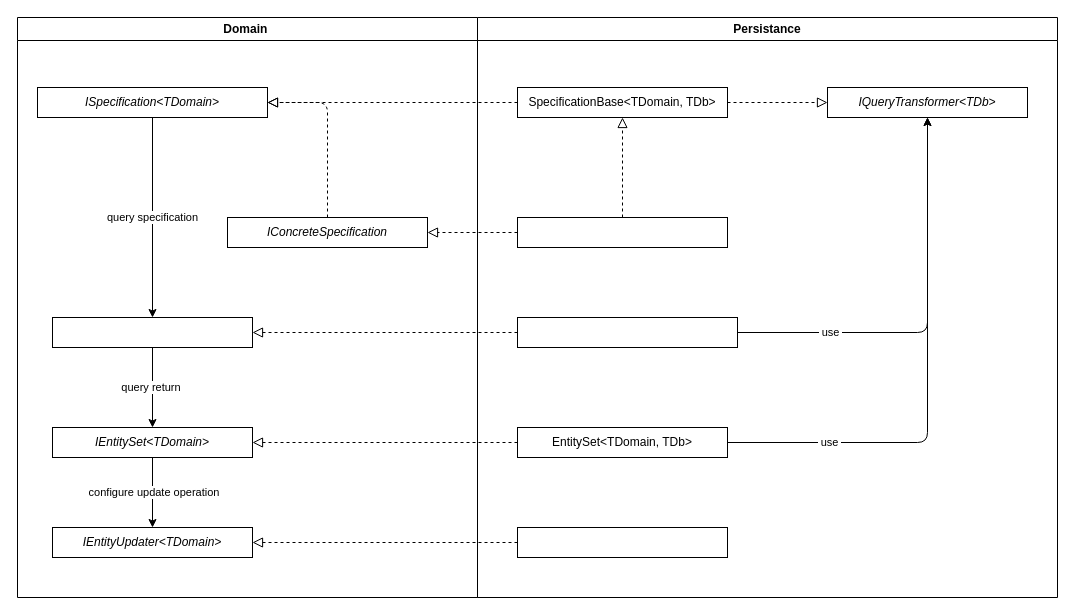
The diagram is 1075 pixels wide and 615 high, and some of its shapes have lost their labels. Here are the shapes that lost their labels. From the top down, the centre of each, then its label:
the point at 622,232: ConcreteSpecification
the point at 152,332: IRepository<TDomain>
the point at 627,332: GenericRepository<TDomain, TDb>
the point at 622,542: EntityUpdater<TDomain, TDB>
